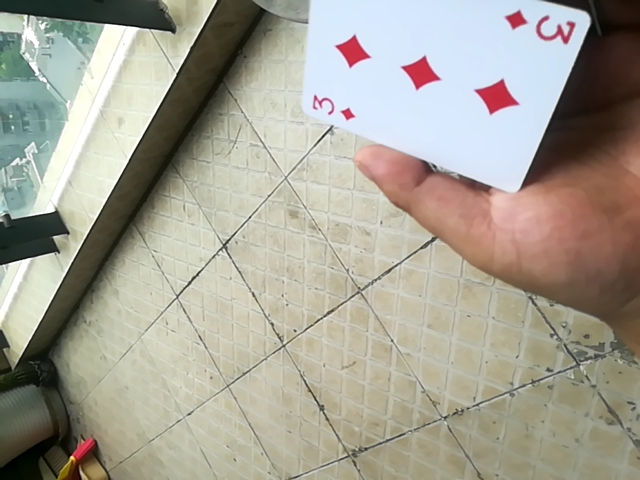fk 3: (296, 1, 592, 199)
